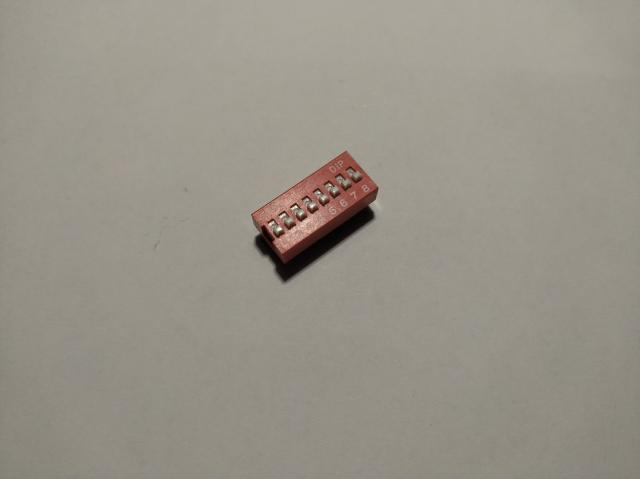dip_switch: (252, 150, 378, 264)
